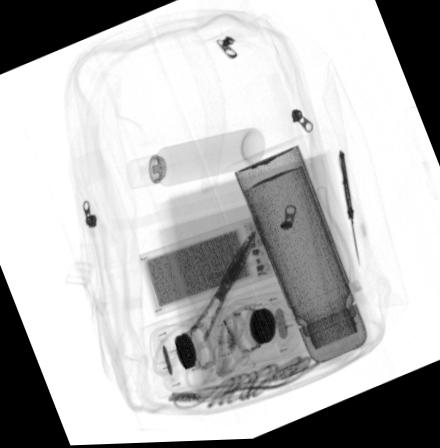Knife: (338, 151, 360, 271)
Powerbank: (136, 213, 281, 318)
Scissors: (148, 230, 253, 391)
Sprayer: (123, 126, 265, 189)
